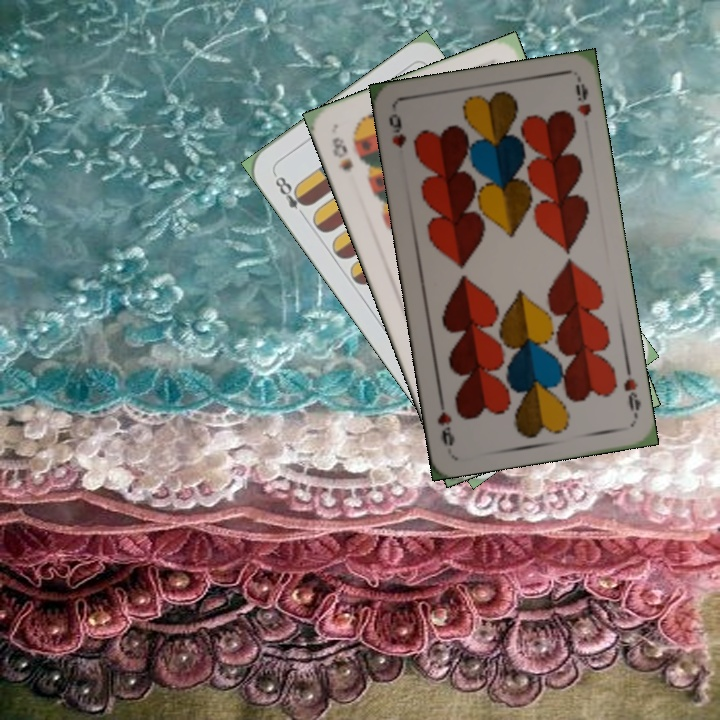E8: (269, 169, 312, 221)
H9: (620, 362, 643, 421), (384, 109, 409, 150)
S8: (328, 133, 356, 174)
